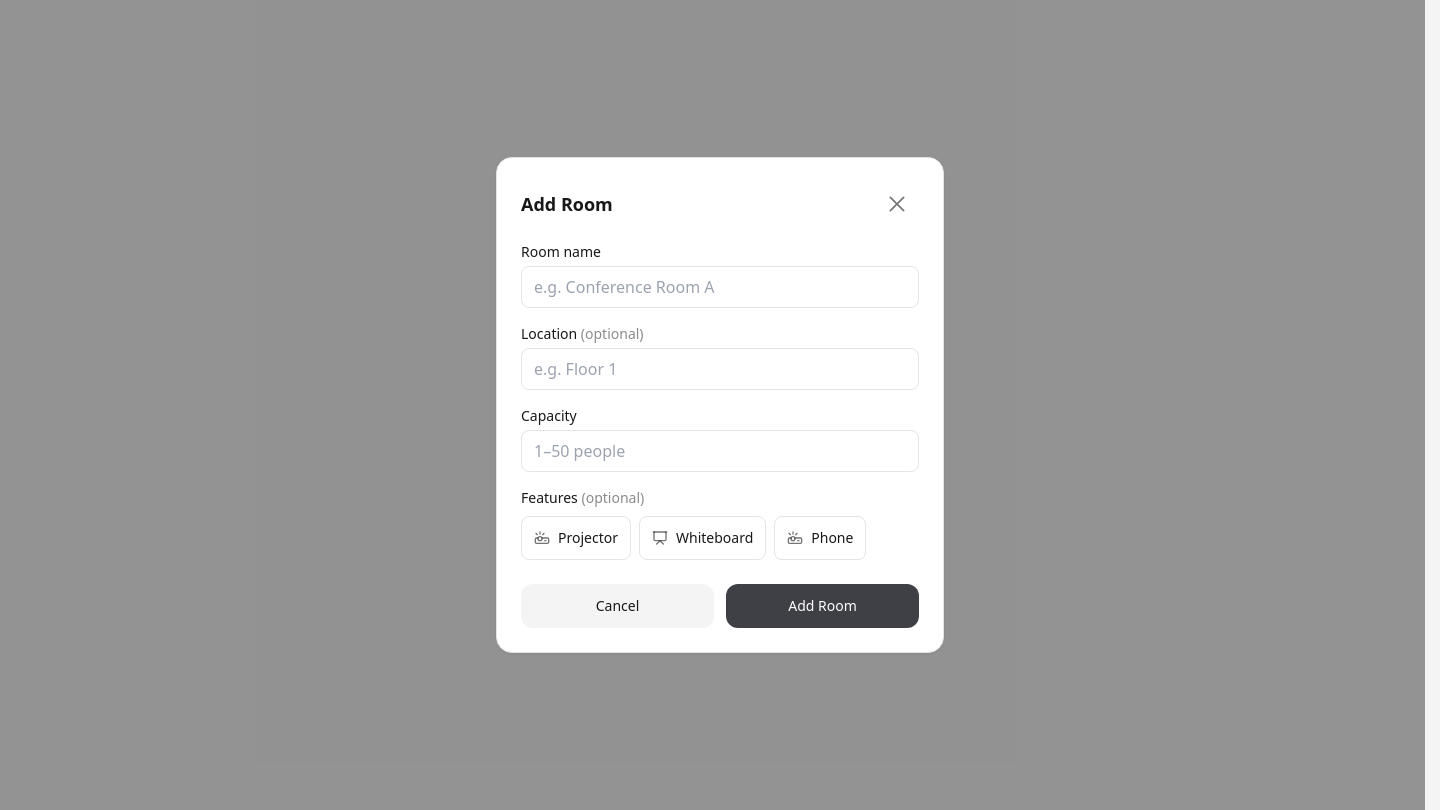
Test: RoomFormModal › shows a server error banner on 400
Type "Focus Room" into the field labelled "Room name" at (720, 287), box [521, 266, 919, 308]
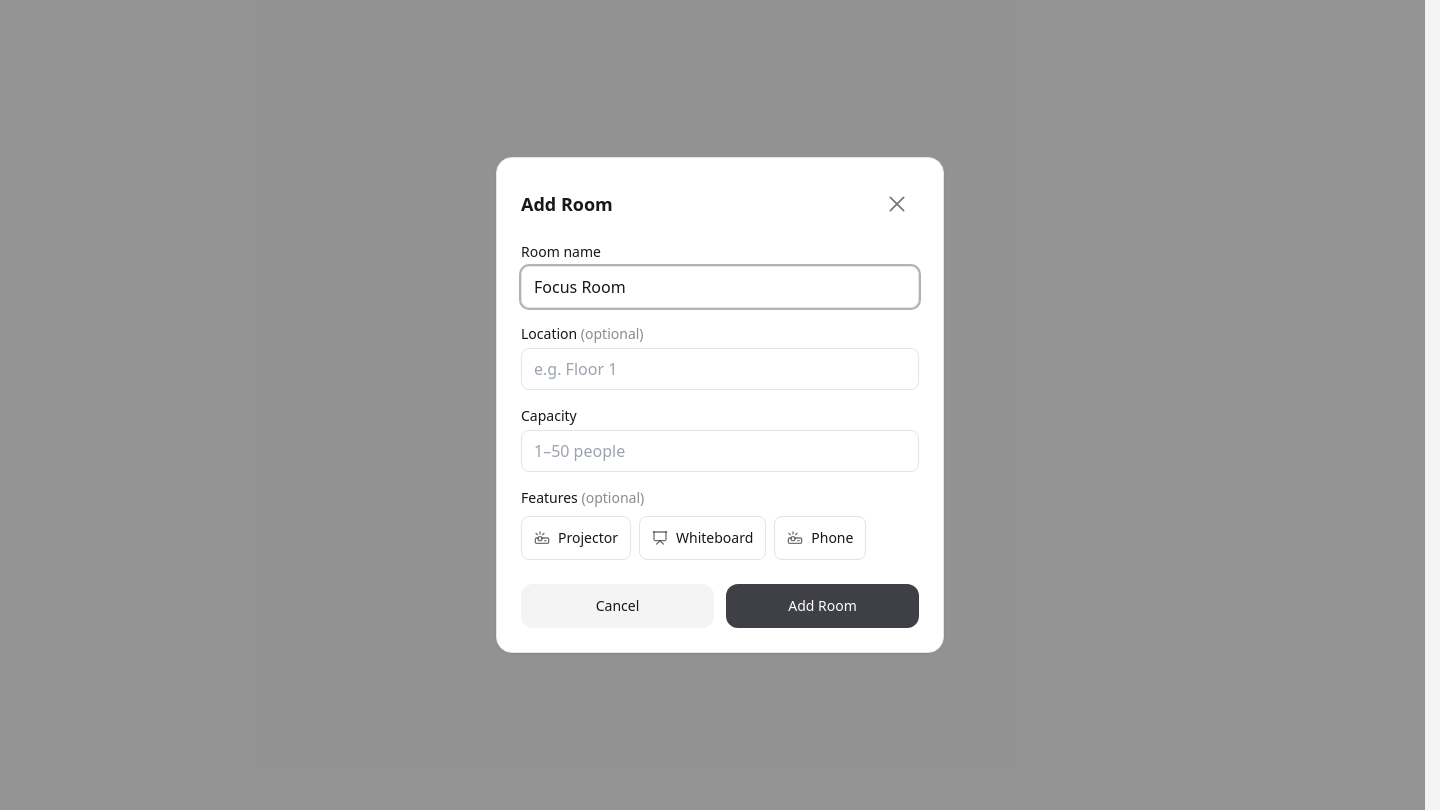
Type "6" into the number field labelled "Capacity" at (720, 451), box [521, 430, 919, 472]
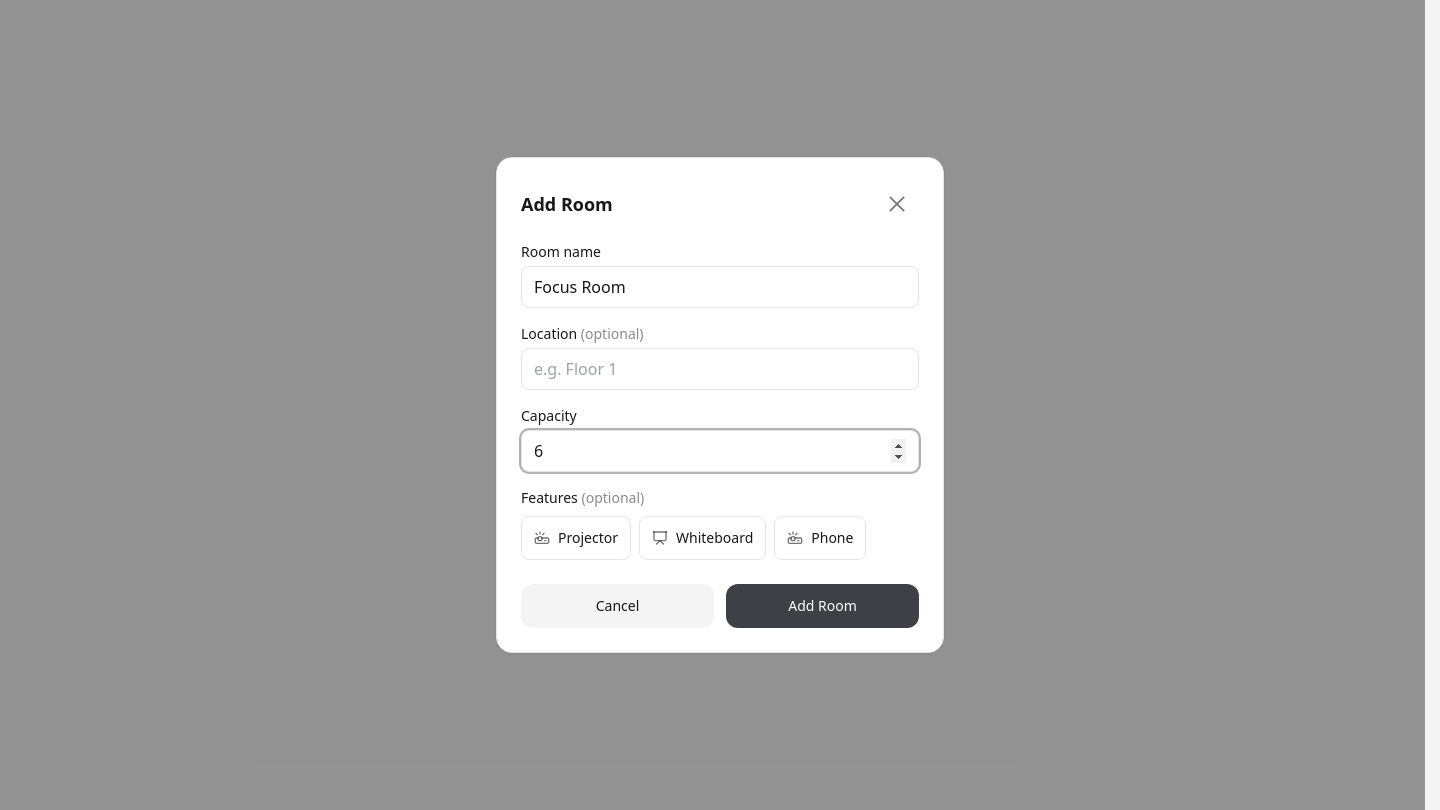
Click the button "Add Room" at (822, 606), box [726, 584, 919, 628]
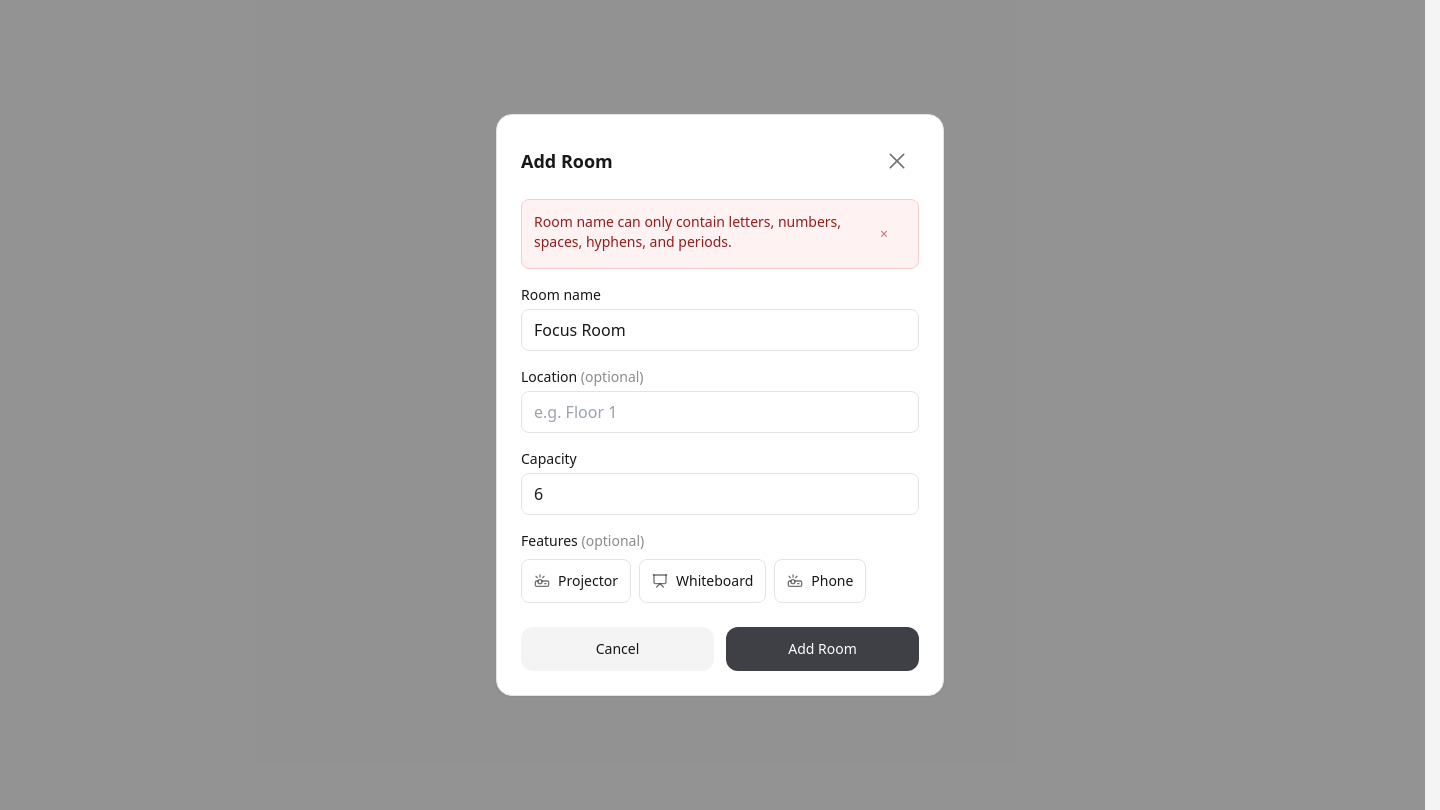
Expected: the text "Room name can only contain letters, numbers, spaces, hyphens, and periods." is shown, [534, 212, 854, 252]
